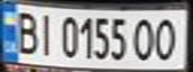0: (57, 12, 78, 59)
1: (75, 13, 93, 60)
5: (90, 14, 112, 61), (109, 14, 130, 62)
B: (9, 7, 42, 55)
I: (33, 9, 57, 57)
O: (151, 15, 184, 62), (130, 15, 160, 62)
